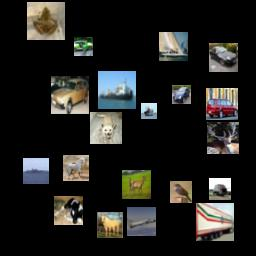airplane: (127, 207, 156, 236)
automobile: (51, 76, 89, 114), (206, 88, 238, 120), (209, 43, 238, 72), (74, 37, 93, 56), (172, 85, 191, 104)
bird: (170, 181, 192, 203)
deer: (207, 122, 239, 154), (122, 170, 151, 199)
dog: (90, 112, 122, 144), (54, 196, 83, 225)
frog: (27, 2, 65, 40)
ship: (98, 71, 136, 109), (159, 32, 188, 61), (23, 158, 49, 184), (141, 103, 157, 119)
truck: (196, 203, 234, 241), (209, 178, 231, 200)
